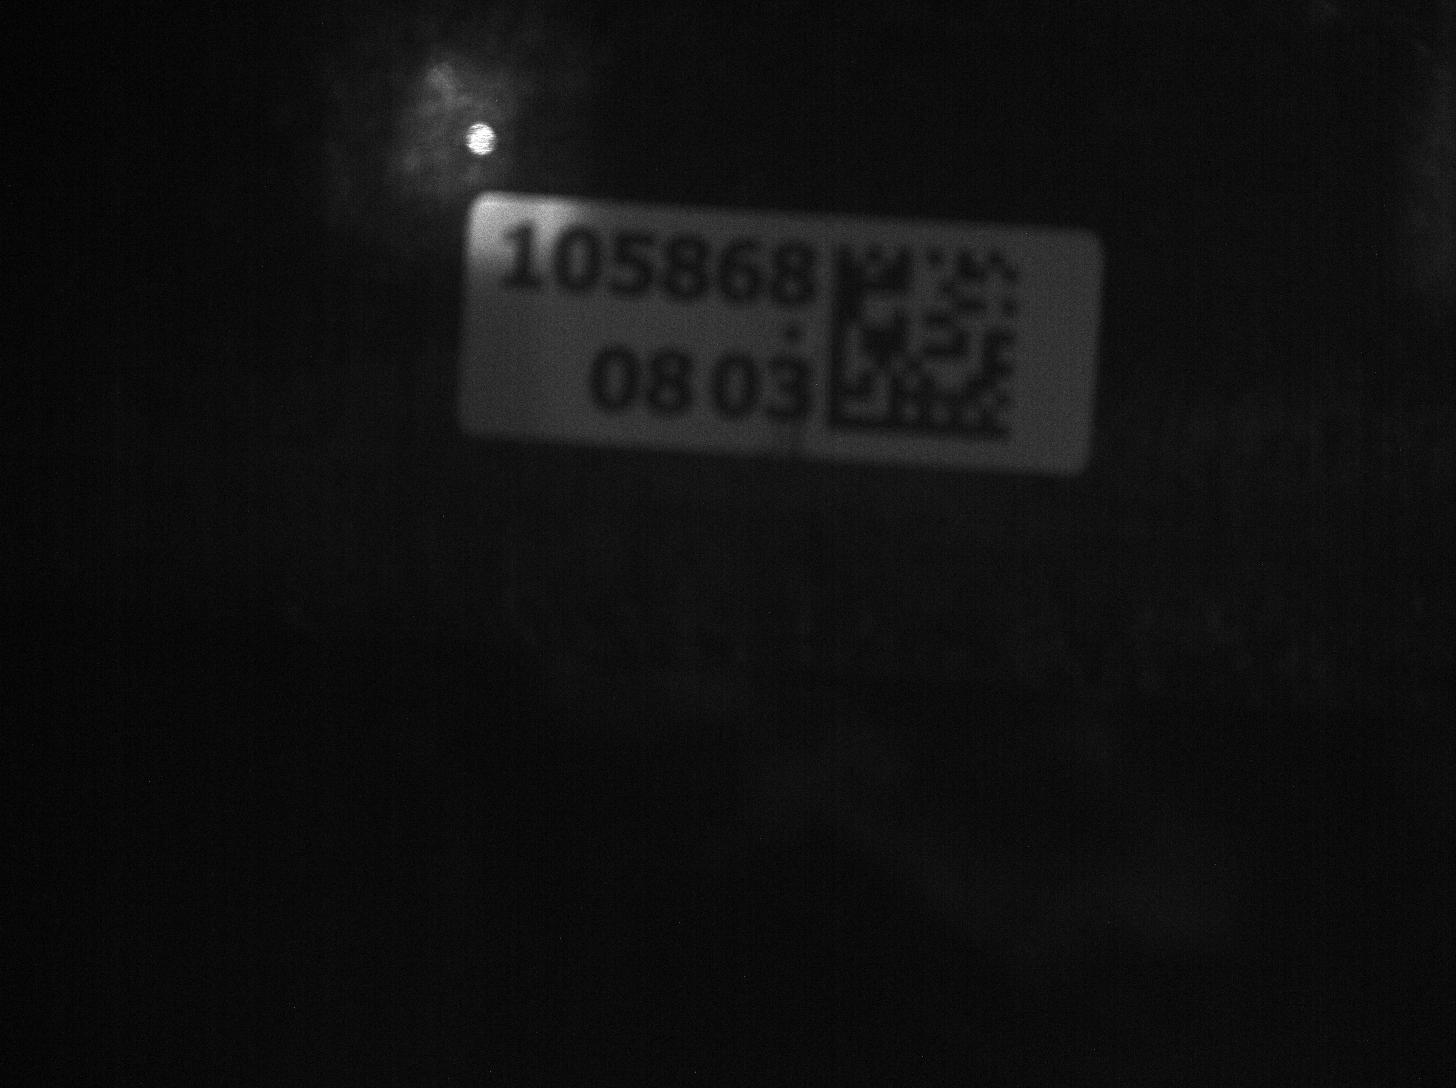data matrix: (808, 219, 1049, 469)
